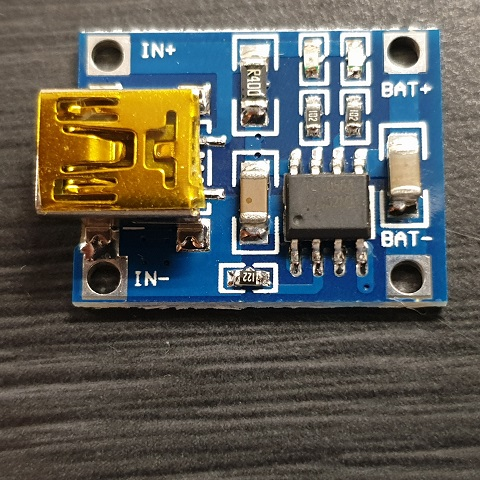batt+: (381, 34, 422, 74)
batt-: (384, 258, 429, 298)
charge: (300, 34, 324, 86)
done: (333, 35, 364, 86)
rprog: (220, 266, 276, 294)
usb: (32, 86, 208, 211)
